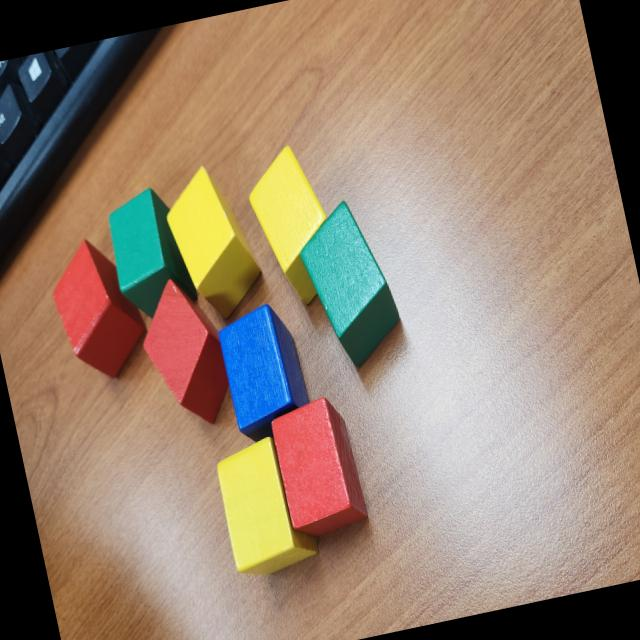blue: (213, 298, 314, 446)
green: (291, 190, 408, 374), (100, 182, 200, 325)
red: (131, 268, 239, 436), (43, 231, 155, 388), (267, 393, 369, 542)
yellow: (156, 157, 269, 326), (240, 140, 342, 314), (209, 428, 322, 582)
